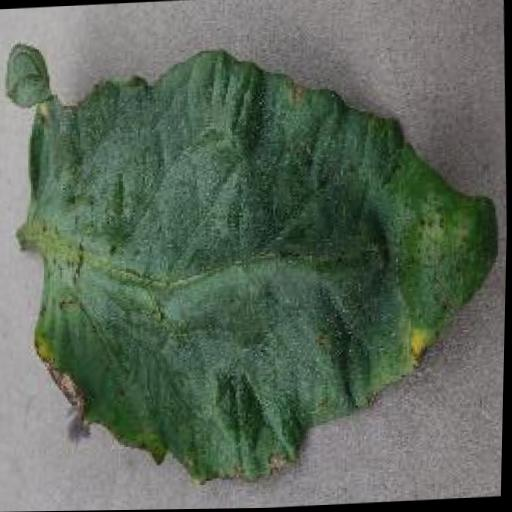Bacterial Spot: (0, 14, 512, 499)
